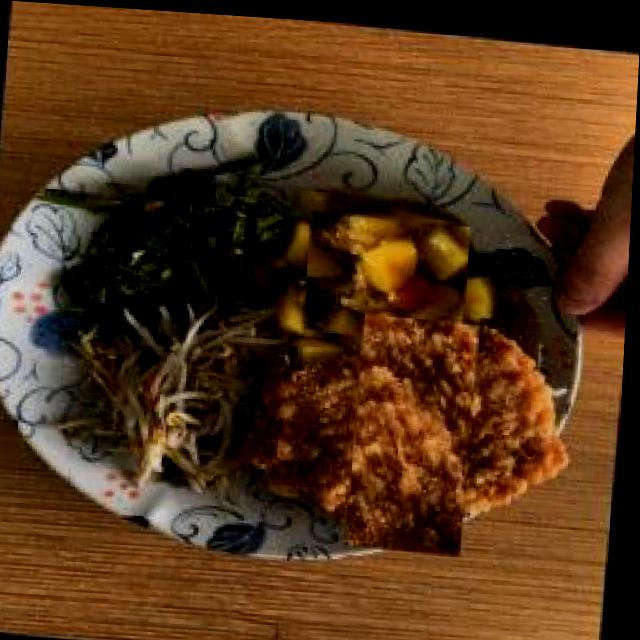curry: (305, 204, 473, 340)
fried_chicken: (323, 333, 510, 522)
mung_bean_sprouts: (82, 318, 255, 467)
water_spinach: (116, 192, 260, 304)
